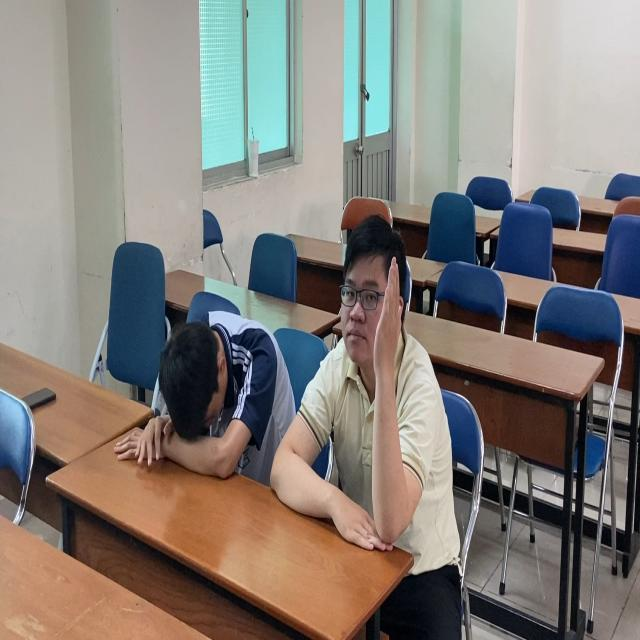raise_hand: (336, 218, 463, 588)
sleep: (113, 304, 278, 478)
